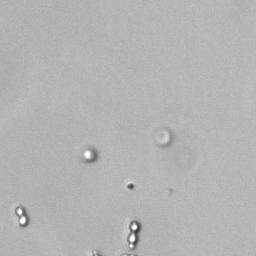budding: (126, 220, 139, 250), (15, 206, 28, 227)
individual: (82, 148, 95, 162)
